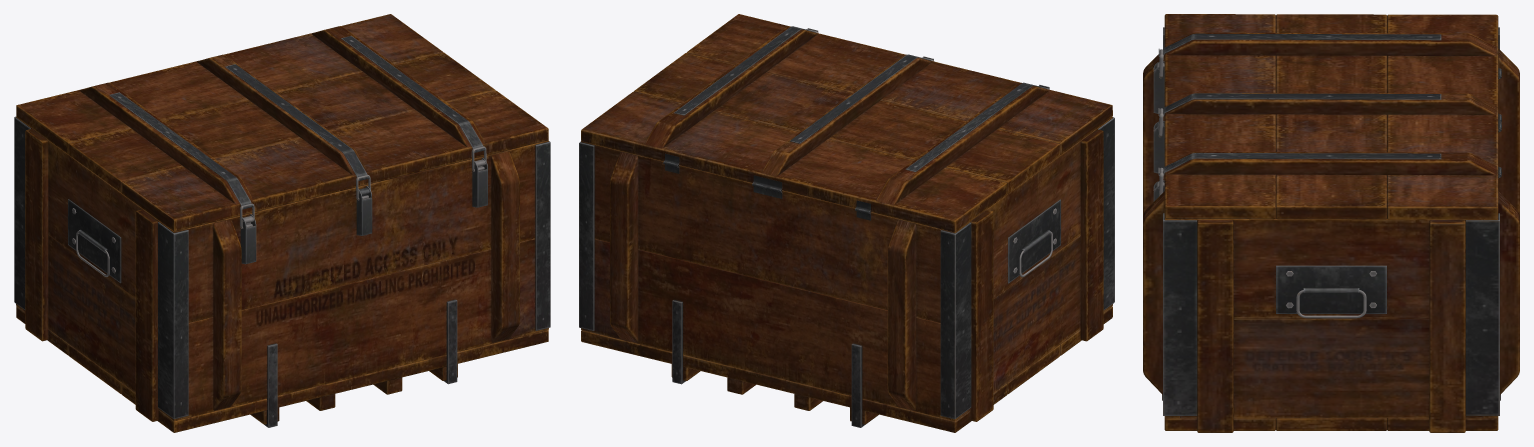
File: supply_crate.glb
3 views of the same model, side by side, from view 1: azimuth 30°, elevation 25°; view 2: azimuth 150°, elevation 25°; view 3: azimuth 270°, elevation 25° (orthographic). The views are drawn at different scales.
Visible parts, largest first — view 1: supply_crate; view 2: supply_crate; view 3: supply_crate.
Part boxes in pixels (x1=…): supply_crate: x1=14, y1=14, x2=550, y2=432; supply_crate: x1=579, y1=14, x2=1114, y2=432; supply_crate: x1=1143, y1=14, x2=1519, y2=432.
Size of the model in its own units: 2.5 by 1.5 by 2.
1 material, 1 textured.
